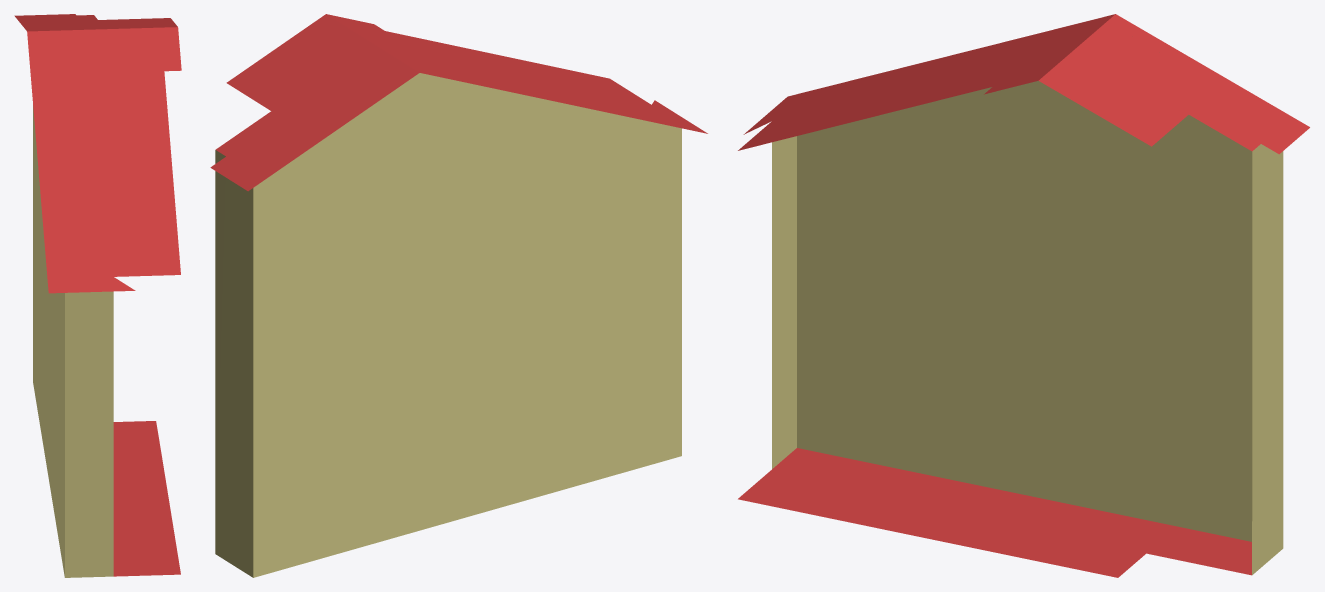
3 renders of one model, left to right at view 1: azimuth 30°, elevation 25°; view 2: azimuth 150°, elevation 25°; view 3: azimuth 270°, elevation 25°, orthographic. The views are drawn at different scales.
Bounding box in the file's own units: 9.22 × 14.14 × 13.35.
